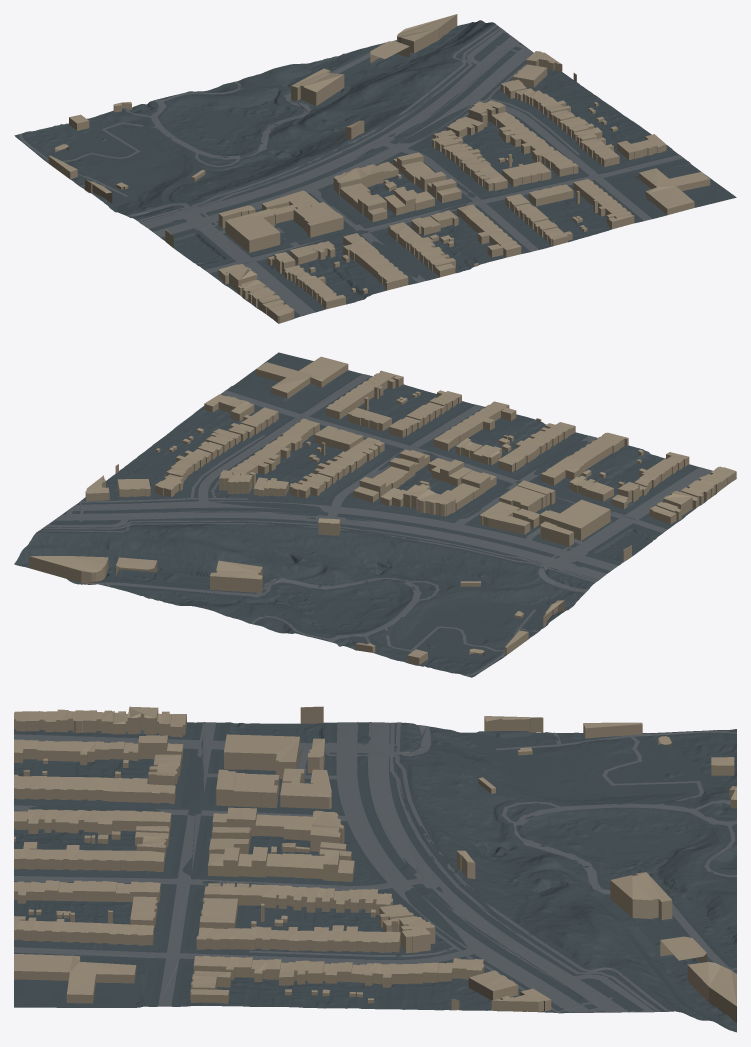
File: epsg26910-1416-10876.lod0.glb
3 renders of one model, top to bottom at view 1: azimuth 30°, elevation 25°; view 2: azimuth 150°, elevation 25°; view 3: azimuth 270°, elevation 25°, orthographic. The views are drawn at different scales.
Visible parts, largest first — view 1: epsg26910-1416-10876-lod0; view 2: epsg26910-1416-10876-lod0; view 3: epsg26910-1416-10876-lod0.
Boxes of the visible parts, bbox=[...] form: epsg26910-1416-10876-lod0: bbox=[14, 14, 736, 323]; epsg26910-1416-10876-lod0: bbox=[14, 352, 736, 677]; epsg26910-1416-10876-lod0: bbox=[14, 706, 736, 1032].
Size of the model in its own units: 384 by 26.8 by 384.
